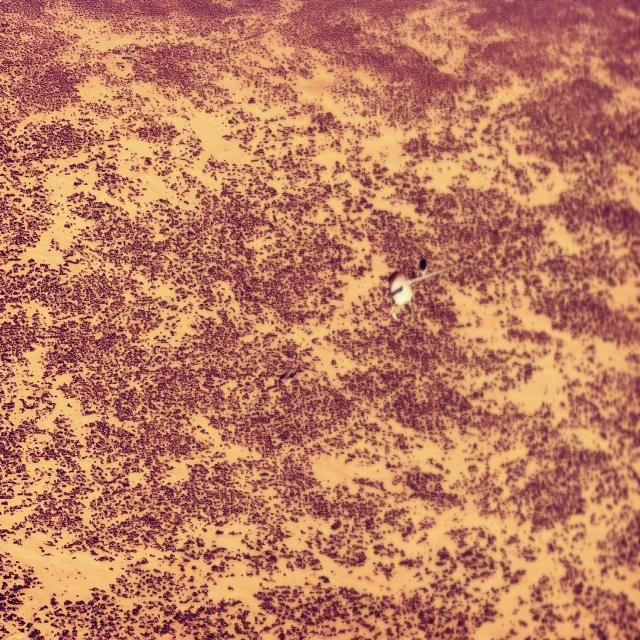airplane: (388, 258, 458, 319)
